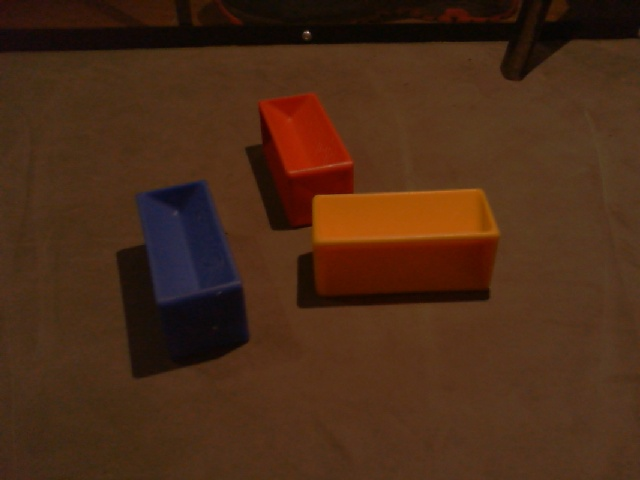BlueSample: (134, 178, 251, 357)
RedSample: (257, 92, 355, 227)
YellowSample: (308, 187, 502, 298)
